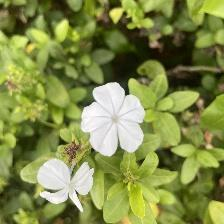chitrak: (81, 82, 150, 157), (37, 158, 97, 213)
